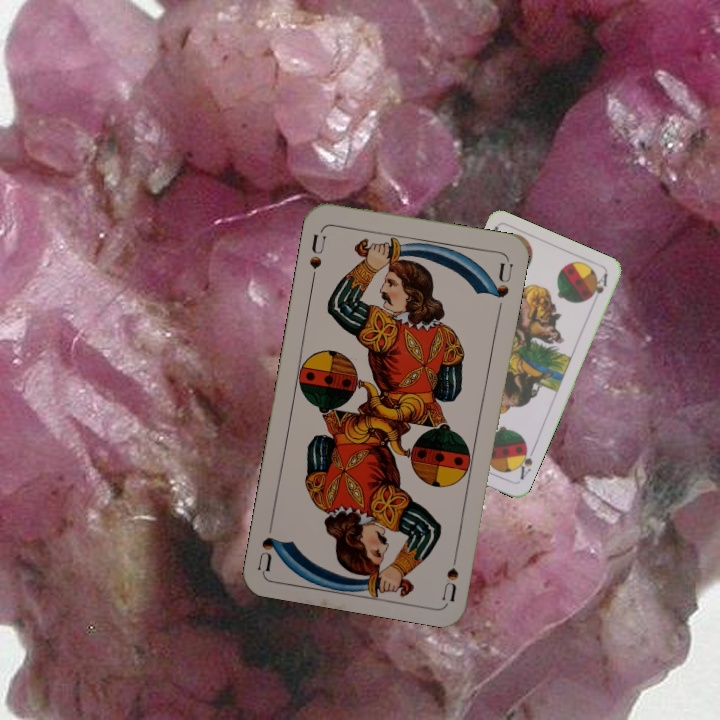SA: (512, 442, 537, 483)
SU: (438, 543, 462, 603), (305, 226, 329, 284)
